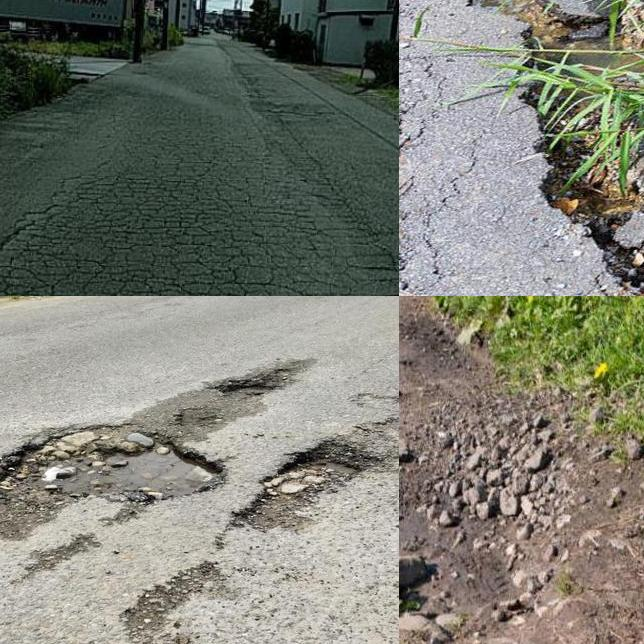Lubang: (4, 425, 217, 501), (250, 442, 381, 517)
Pinggir: (442, 0, 644, 296), (399, 436, 509, 644)
Retak Buaya: (0, 114, 346, 296)
